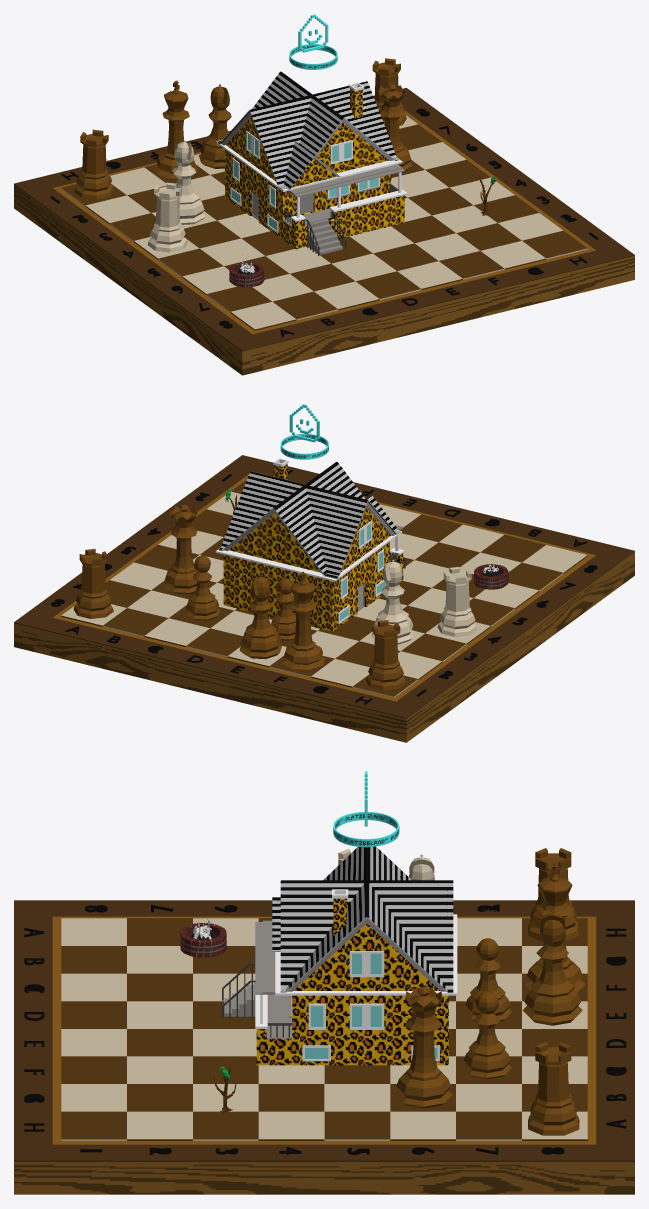
3 views of the same model, one above another, from view 1: azimuth 30°, elevation 25°; view 2: azimuth 150°, elevation 25°; view 3: azimuth 270°, elevation 25° (orthographic). The views are drawn at different scales.
Parts seen in each view (by area): view 1: Cube.002, Cube.637, TYPE_PREMIUM, OBJRANDOM_CAMPFIRE; view 2: Cube.002, Cube.637, TYPE_PREMIUM, OBJRANDOM_CAMPFIRE; view 3: Cube.002, Cube.637, OBJRANDOM_CAMPFIRE, TYPE_PREMIUM.
Part boxes in pixels (<box>): Cube.002: <box>14,58,634,375</box>; Cube.637: <box>216,71,407,255</box>; TYPE_PREMIUM: <box>289,14,337,69</box>; OBJRANDOM_CAMPFIRE: <box>229,258,264,287</box>; Cube.002: <box>14,455,634,742</box>; Cube.637: <box>215,458,405,631</box>; TYPE_PREMIUM: <box>280,404,328,459</box>; OBJRANDOM_CAMPFIRE: <box>473,563,508,589</box>; Cube.002: <box>14,848,634,1194</box>; Cube.637: <box>222,846,457,1065</box>; OBJRANDOM_CAMPFIRE: <box>180,919,226,957</box>; TYPE_PREMIUM: <box>333,771,399,847</box>.
Bounding box in the file's own units: 3981 × 2155 × 4012.
Materials: 32 (4 with a texture image).
